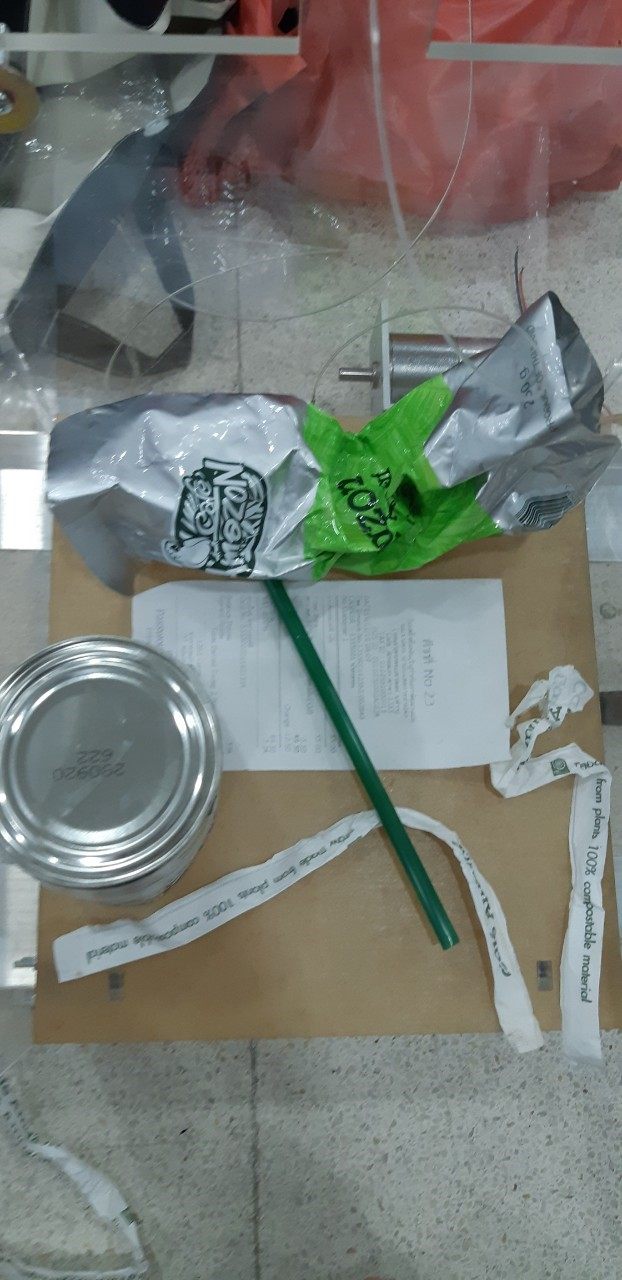AlCan: (1, 631, 226, 906)
Others: (46, 293, 614, 589), (54, 809, 542, 1063), (134, 573, 508, 773), (266, 573, 454, 947), (494, 665, 622, 1067)
